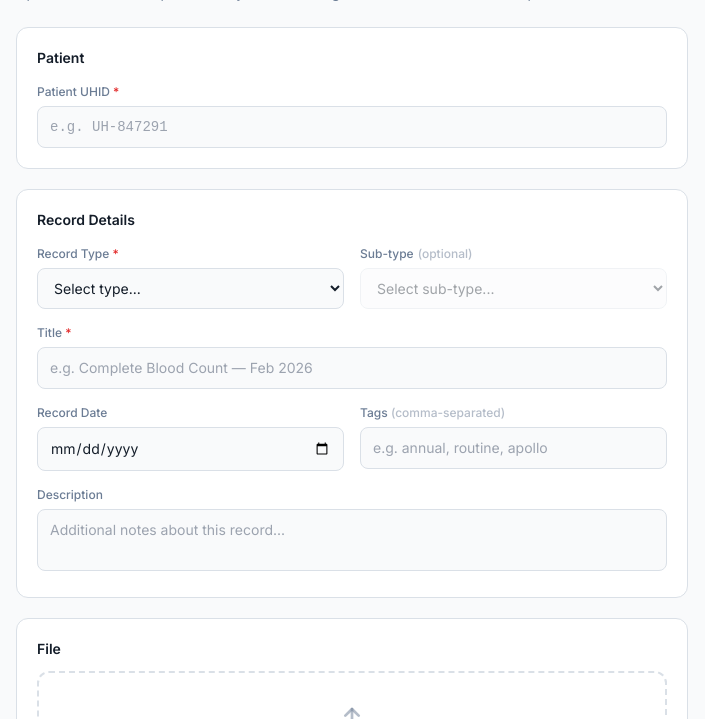
Test case: UploadRecordPage — Validation › shows title length validation error
In the field with placeholder "e.g. Complete Blood Count — Feb 2026": (352, 368) [37,347,667,389], type "AB"
(page scrolled)
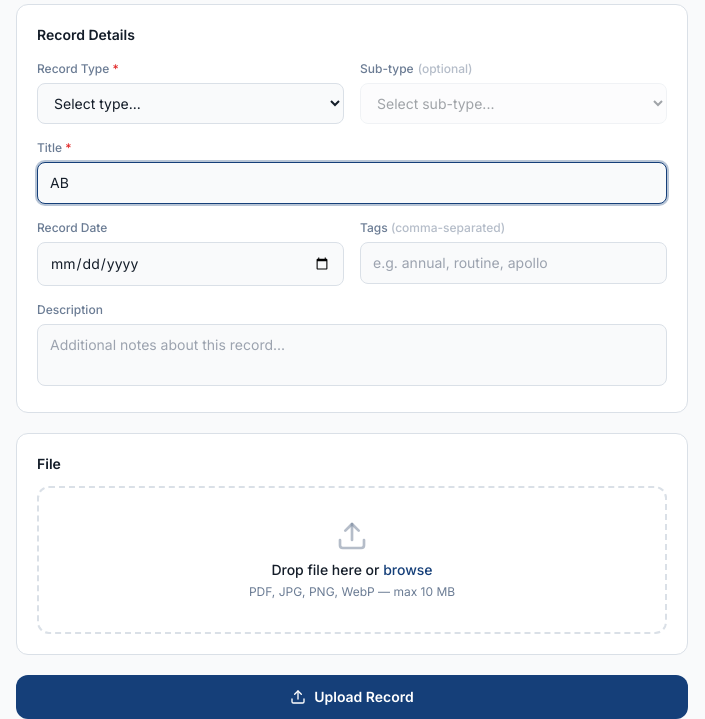
Click the button "Upload Record": (352, 697) [16,675,688,718]
(page scrolled)
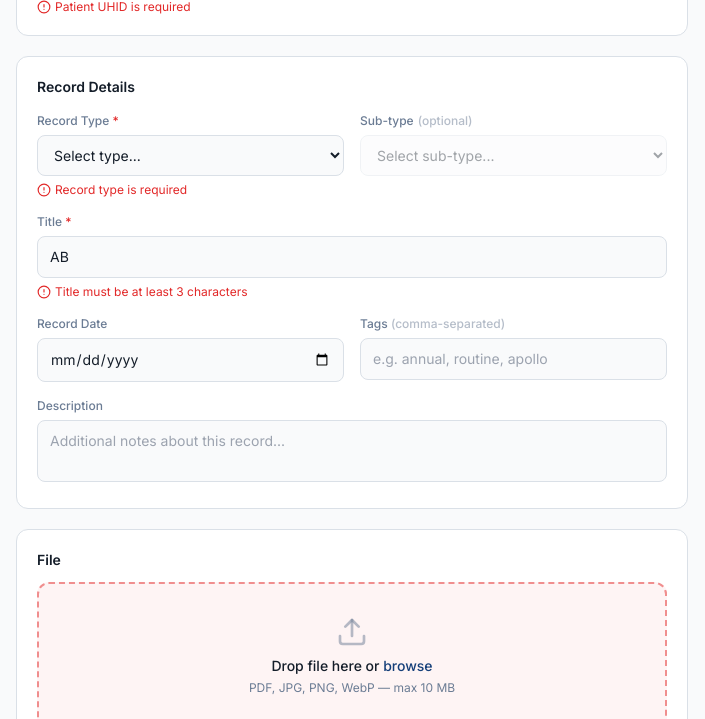
Result: the text "Title must be at least 3 characters" is shown at [37,284,248,299]
